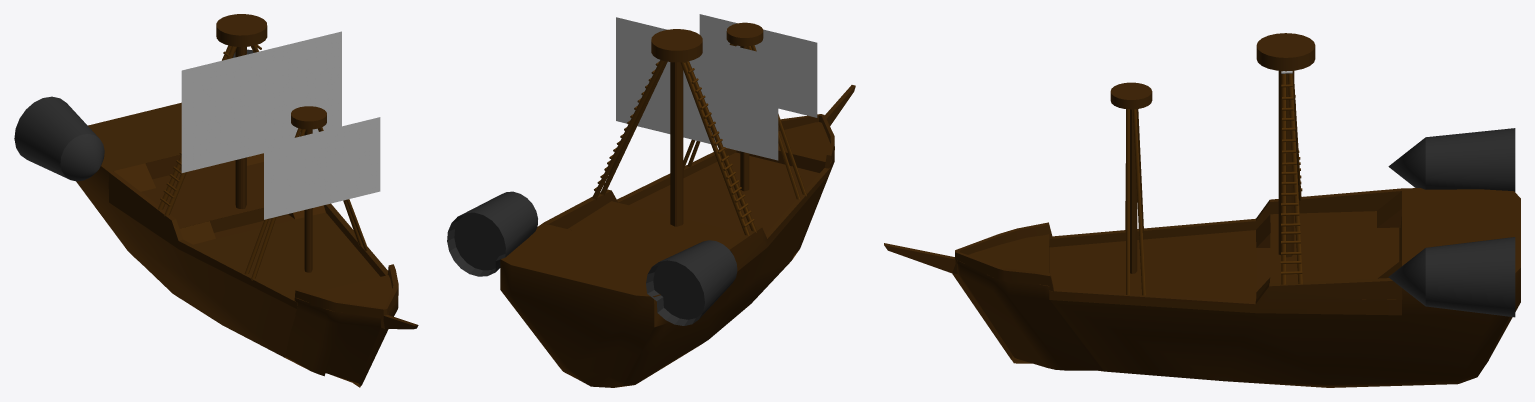
The model's file is BOJJANBOATBABYWEDONDEUPINDISBITCH.fbx.
3 renders of one model, left to right at view 1: azimuth 30°, elevation 25°; view 2: azimuth 150°, elevation 25°; view 3: azimuth 270°, elevation 25°, orthographic. The views are drawn at different scales.
Visible parts, largest first — view 1: boatBase, pPlane2, pPlane3, Rocket21, pCylinder2, pCube2, pCylinder4, pCylinder1, pCube4, pCylinder3, pPipe48; view 2: boatBase, pPlane2, Rocket21, Rocket4, pPlane3, pCylinder1, pCylinder2, pPipe3, pPipe2, pPipe4, pCylinder4, pCube2 (+3 smaller); view 3: boatBase, Rocket4, Rocket21, pCube2, pCylinder2, pCylinder1, pCylinder3, pPipe1, pCylinder4, pPipe2, pPipe45, pPipe46 (+1 smaller).
Part boxes in pixels (<box>): boatBase: <box>76,102,418,387</box>; pPlane2: <box>181,31,341,172</box>; pPlane3: <box>264,117,380,219</box>; Rocket21: <box>14,96,104,181</box>; pCylinder2: <box>216,14,267,46</box>; pCube2: <box>294,264,398,318</box>; pCylinder4: <box>291,106,326,129</box>; pCylinder1: <box>235,47,246,208</box>; pCube4: <box>113,163,155,191</box>; pCylinder3: <box>304,129,312,272</box>; pPipe48: <box>251,129,305,280</box>; boatBase: <box>500,85,855,387</box>; pPlane2: <box>616,17,778,160</box>; Rocket21: <box>646,240,737,325</box>; Rocket4: <box>447,191,537,276</box>; pPlane3: <box>699,14,817,117</box>; pCylinder1: <box>670,62,683,226</box>; pCylinder2: <box>651,29,702,62</box>; pPipe3: <box>680,62,749,235</box>; pPipe2: <box>592,60,664,199</box>; pPipe4: <box>686,61,756,232</box>; pCylinder4: <box>726,22,763,46</box>; pCube2: <box>778,114,834,168</box>; boatBase: <box>884,188,1520,387</box>; Rocket4: <box>1388,237,1515,317</box>; Rocket21: <box>1388,128,1515,191</box>; pCube2: <box>955,222,1053,292</box>; pCylinder2: <box>1256,33,1315,71</box>; pCylinder1: <box>1278,70,1294,257</box>; pCylinder3: <box>1130,109,1137,273</box>; pPipe1: <box>1281,71,1286,284</box>; pCylinder4: <box>1110,82,1152,109</box>; pPipe2: <box>1287,73,1302,283</box>; pPipe45: <box>1133,109,1145,295</box>; pPipe46: <box>1126,109,1129,295</box>.
Size of the model in its own units: 11.49 by 12.08 by 21.61.
